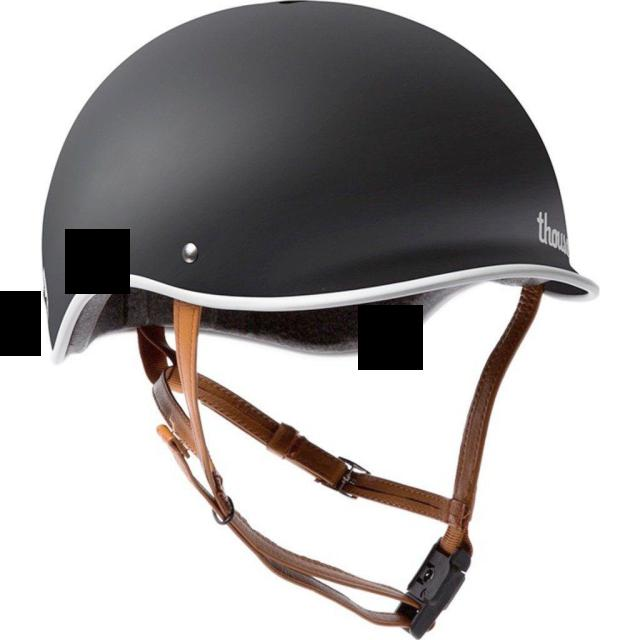Helmet: (44, 2, 596, 365)
